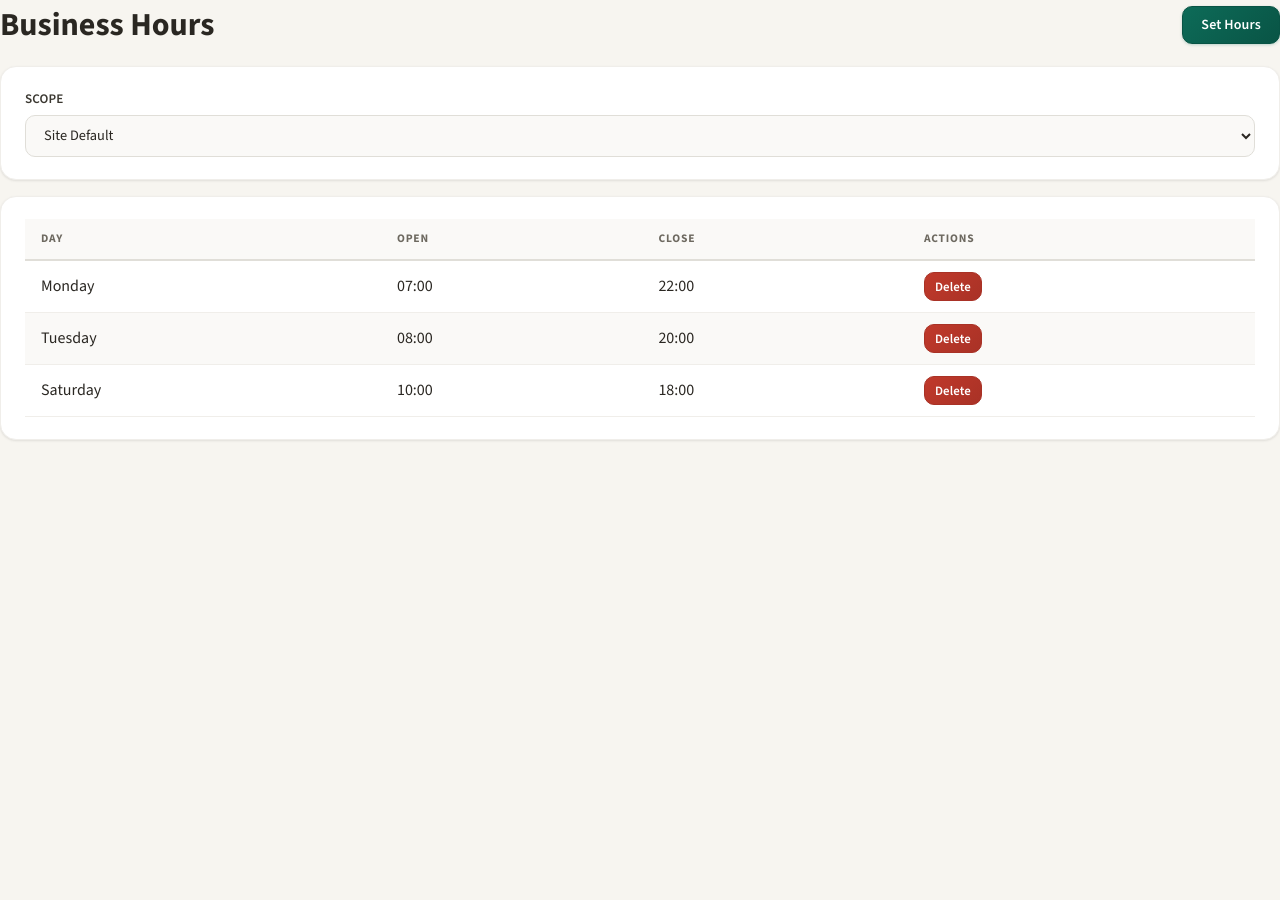
Test: BusinessHoursPage › Set Hours modal › closes the modal when Cancel is clicked
Click the button "Set Hours".
click(1231, 25)  # box [1182, 6, 1279, 44]
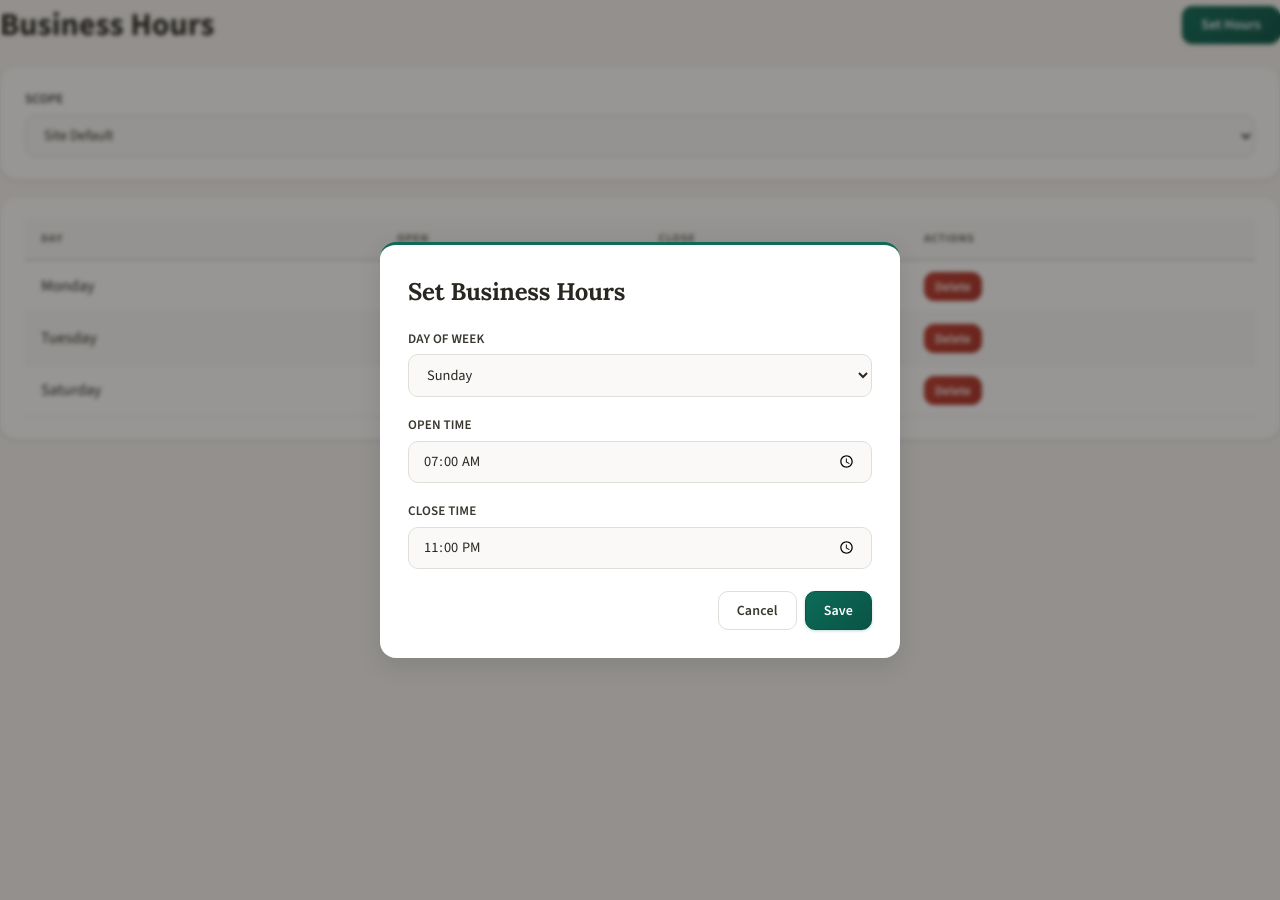
Now the heading "Set Business Hours" is shown, box [408, 276, 625, 307]
Click the button "Cancel".
click(757, 610)  # box [718, 591, 797, 630]
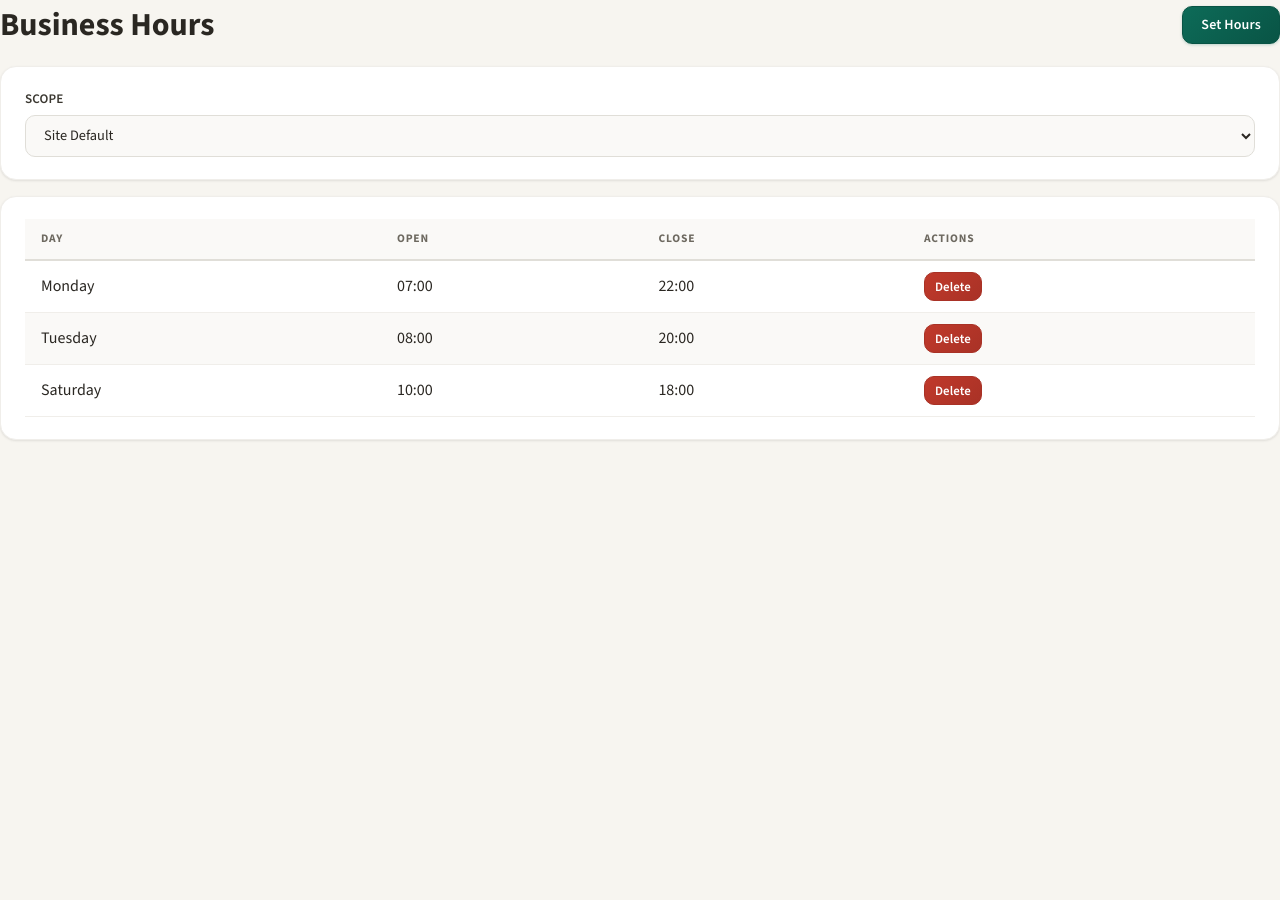
Now the heading "Set Business Hours" is gone
